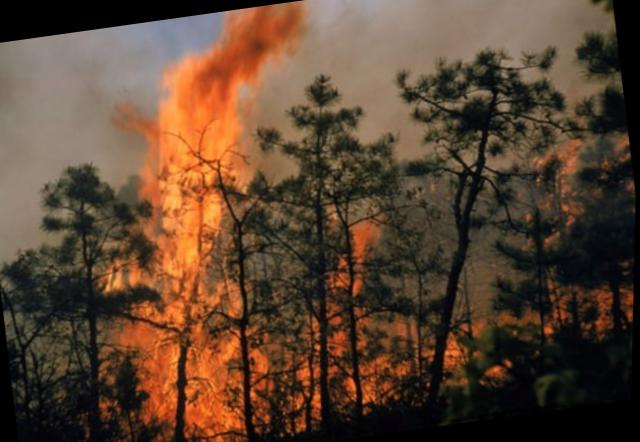fire: (73, 0, 639, 441)
